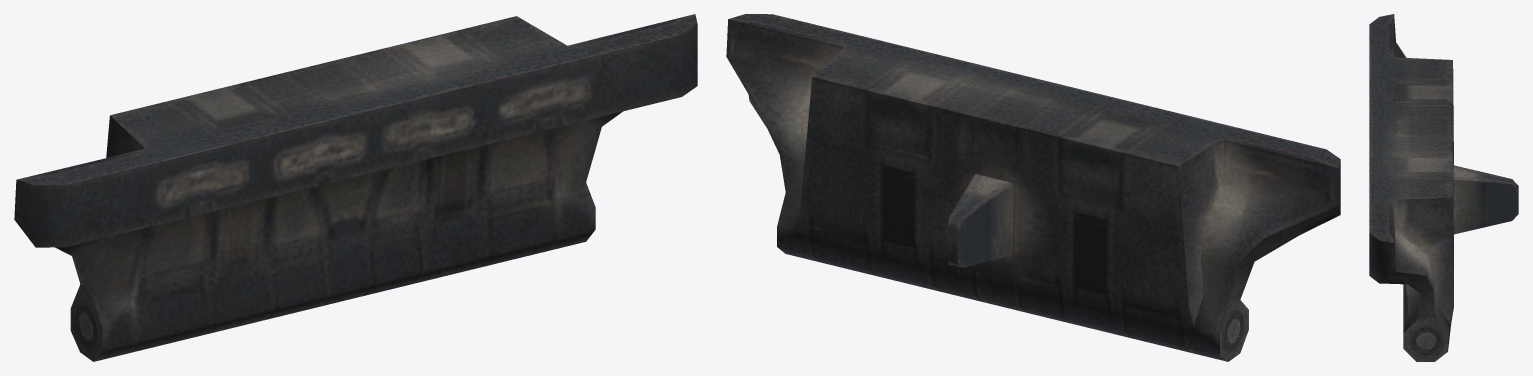
3 renders of one model, left to right at view 1: azimuth 30°, elevation 25°; view 2: azimuth 150°, elevation 25°; view 3: azimuth 270°, elevation 25°, orthographic. The views are drawn at different scales.
Parts seen in each view (by area): view 1: set_0_group_0; view 2: set_0_group_0; view 3: set_0_group_0.
Boxes of the visible parts, left/top/right/bottom form: set_0_group_0: left=14, top=14, right=697, bottom=361; set_0_group_0: left=726, top=14, right=1340, bottom=361; set_0_group_0: left=1369, top=14, right=1518, bottom=361.
Bounding box in the file's own units: 0.6096 × 0.1857 × 0.1677.
1 material, 1 textured.
